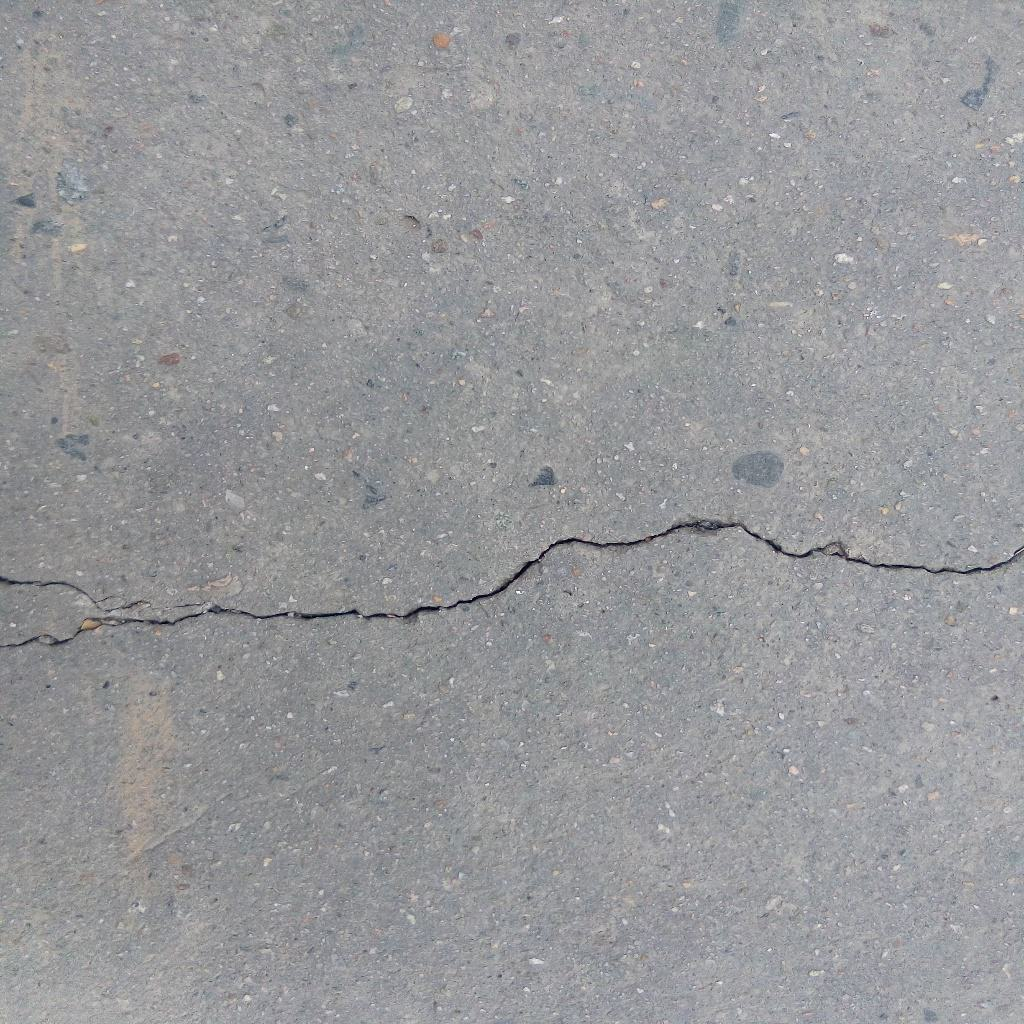Crack: (1, 512, 1024, 649)
